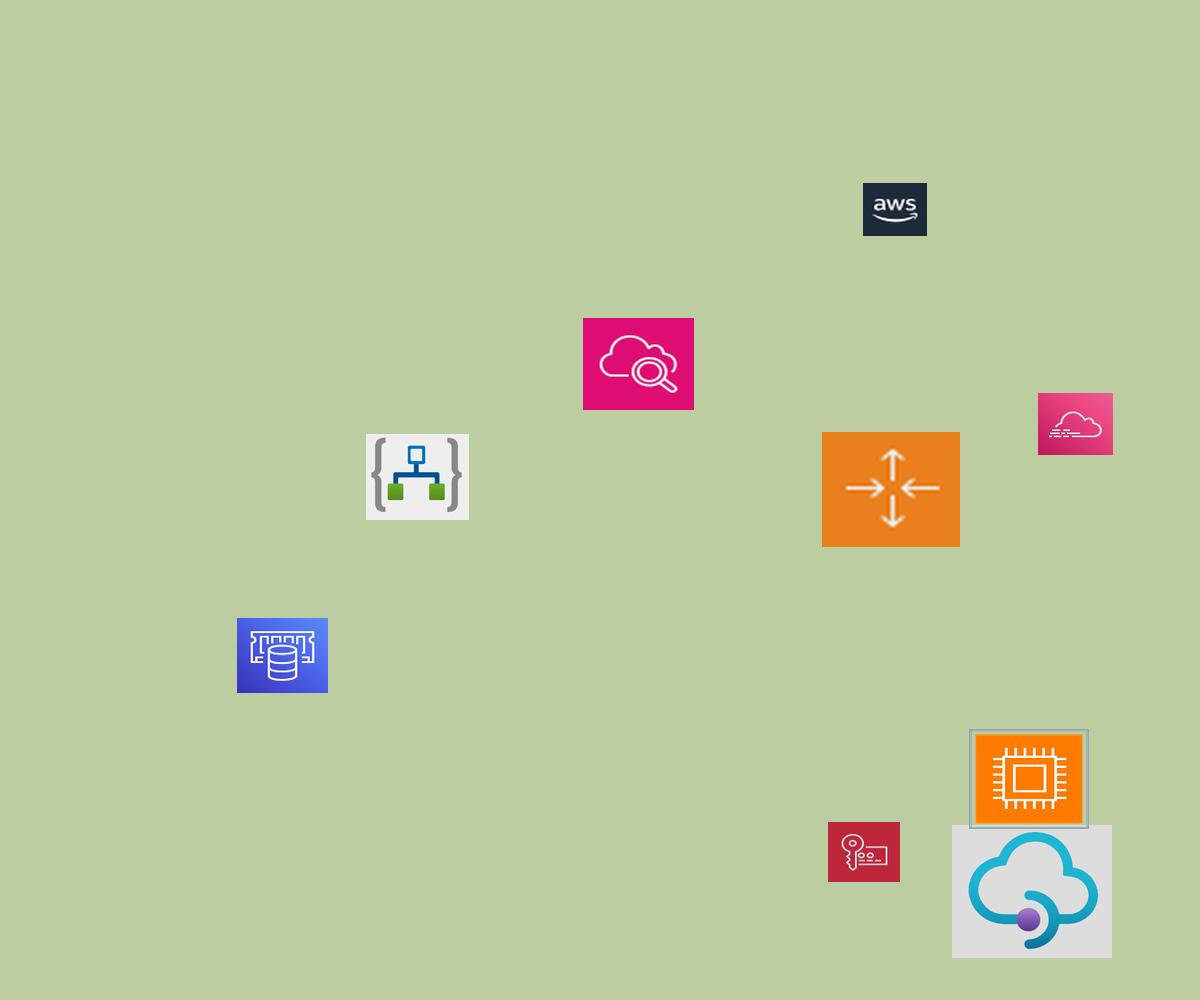AWS-Category_Compute: (969, 729, 1089, 829)
AWS-Cloud-logo: (863, 183, 927, 236)
AWS-CloudTrail: (1038, 393, 1113, 455)
AWS-CloudWatch: (583, 318, 694, 410)
AWS-ElastiCache: (237, 618, 328, 693)
AWS-Key-Management-Service: (828, 822, 900, 882)
AWS-Scaling-group: (822, 432, 960, 547)
Azure_api_gateway: (952, 825, 1112, 958)
Azure_integration-204-Logic-Apps: (366, 434, 469, 520)
